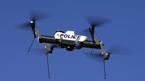UAV: (137, 48, 145, 81)
